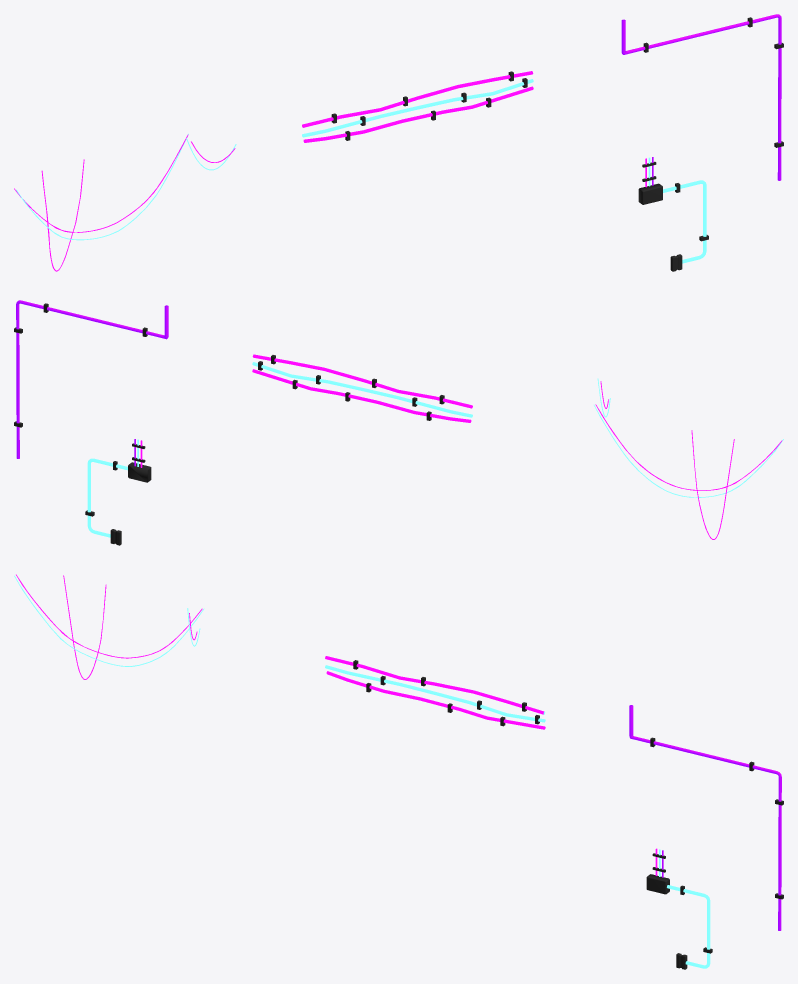
File: neon_wire.fbx
3 views of the same model, one above another, from view 1: azimuth 30°, elevation 25°; view 2: azimuth 150°, elevation 25°; view 3: azimuth 330°, elevation 25° (orthographic). The views are drawn at different scales.
Visible parts, largest first — view 1: WIRE.001, WIRE.002, WIRE.003, WIRE; view 2: WIRE.001, WIRE.002, WIRE.003, WIRE; view 3: WIRE.001, WIRE.002, WIRE.003, WIRE.
Part boxes in pixels (box(x1,y1,x2,y2)): WIRE.001: box(302, 71, 533, 142); WIRE.002: box(621, 14, 783, 180); WIRE.003: box(638, 157, 708, 271); WIRE: box(14, 133, 236, 271); WIRE.001: box(252, 354, 472, 422); WIRE.002: box(14, 300, 168, 458); WIRE.003: box(85, 439, 151, 545); WIRE: box(594, 378, 783, 539); WIRE.001: box(325, 656, 545, 729); WIRE.002: box(629, 705, 783, 930); WIRE.003: box(646, 848, 712, 969); WIRE: box(14, 574, 204, 679).
Bounding box in the file's own units: 141 × 1761 × 568.
